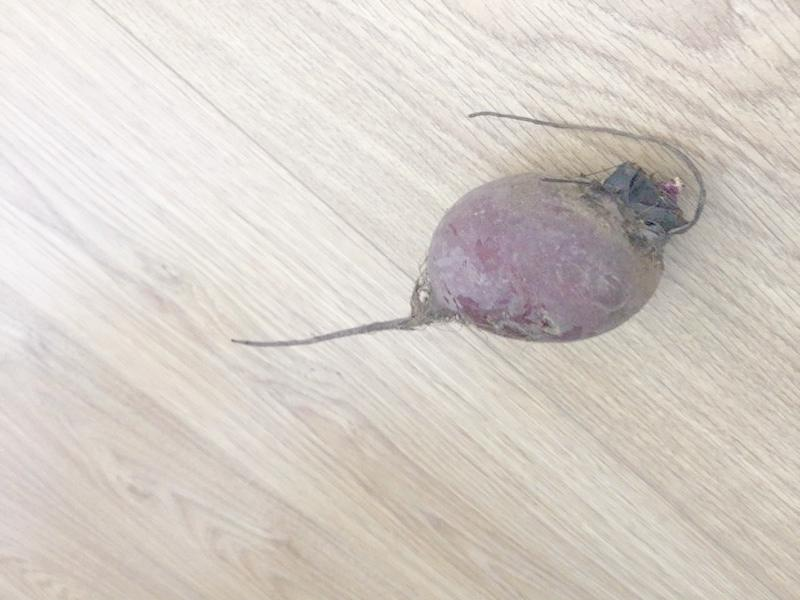Beet: (230, 112, 705, 348)
